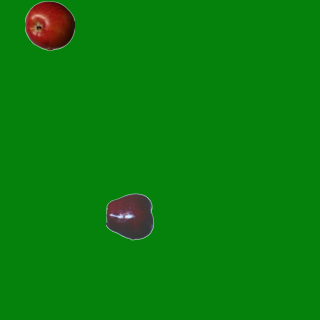Apple Braeburn: (24, 0, 74, 50)
Apple Red Delicious: (105, 191, 155, 241)
